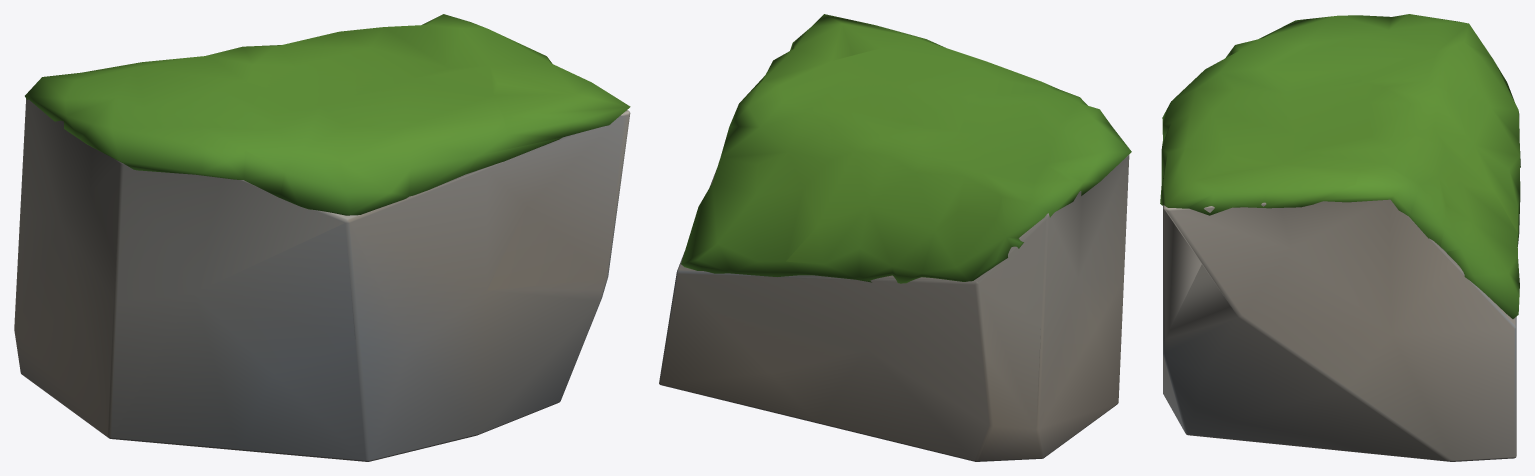
The model's file is grotto_rock_a_lod1.glb.
3 renders of one model, left to right at view 1: azimuth 30°, elevation 25°; view 2: azimuth 150°, elevation 25°; view 3: azimuth 270°, elevation 25°, orthographic. The views are drawn at different scales.
Visible parts, largest first — view 1: grotto_rock_a.001, moss.001; view 2: moss.001, grotto_rock_a.001; view 3: grotto_rock_a.001, moss.001.
Boxes of the visible parts, bbox=[...] form: grotto_rock_a.001: bbox=[14, 99, 630, 461]; moss.001: bbox=[25, 14, 630, 215]; moss.001: bbox=[681, 14, 1131, 283]; grotto_rock_a.001: bbox=[659, 155, 1129, 461]; grotto_rock_a.001: bbox=[1163, 199, 1516, 461]; moss.001: bbox=[1160, 14, 1520, 318].
Bounding box in the file's own units: 3.58 × 2.32 × 2.86.
